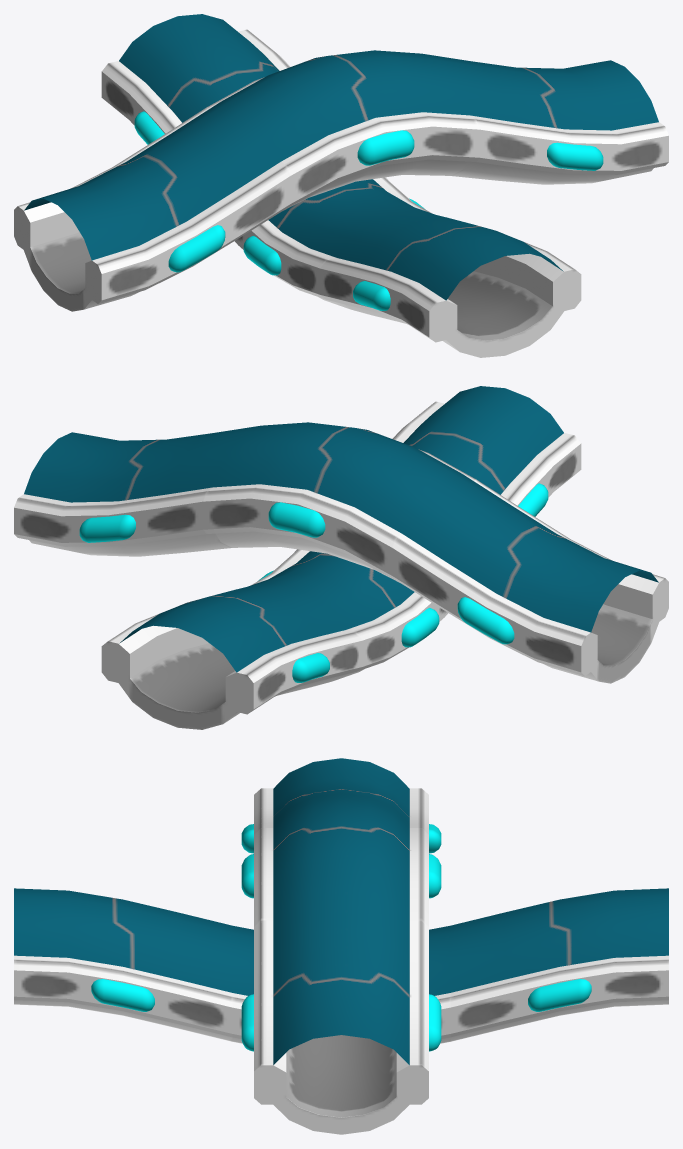
File: Conveyor_Crossing.fbx
3 views of the same model, one above another, from view 1: azimuth 30°, elevation 25°; view 2: azimuth 150°, elevation 25°; view 3: azimuth 270°, elevation 25° (orthographic).
Visible parts, largest first — view 1: Conveyor_X_Intersection; view 2: Conveyor_X_Intersection; view 3: Conveyor_X_Intersection.
Part boxes in pixels (x1,y1,x2,y2): Conveyor_X_Intersection: (14, 14, 668, 357); Conveyor_X_Intersection: (14, 386, 668, 729); Conveyor_X_Intersection: (14, 758, 668, 1134).
Size of the model in its own units: 600 by 228 by 600.
